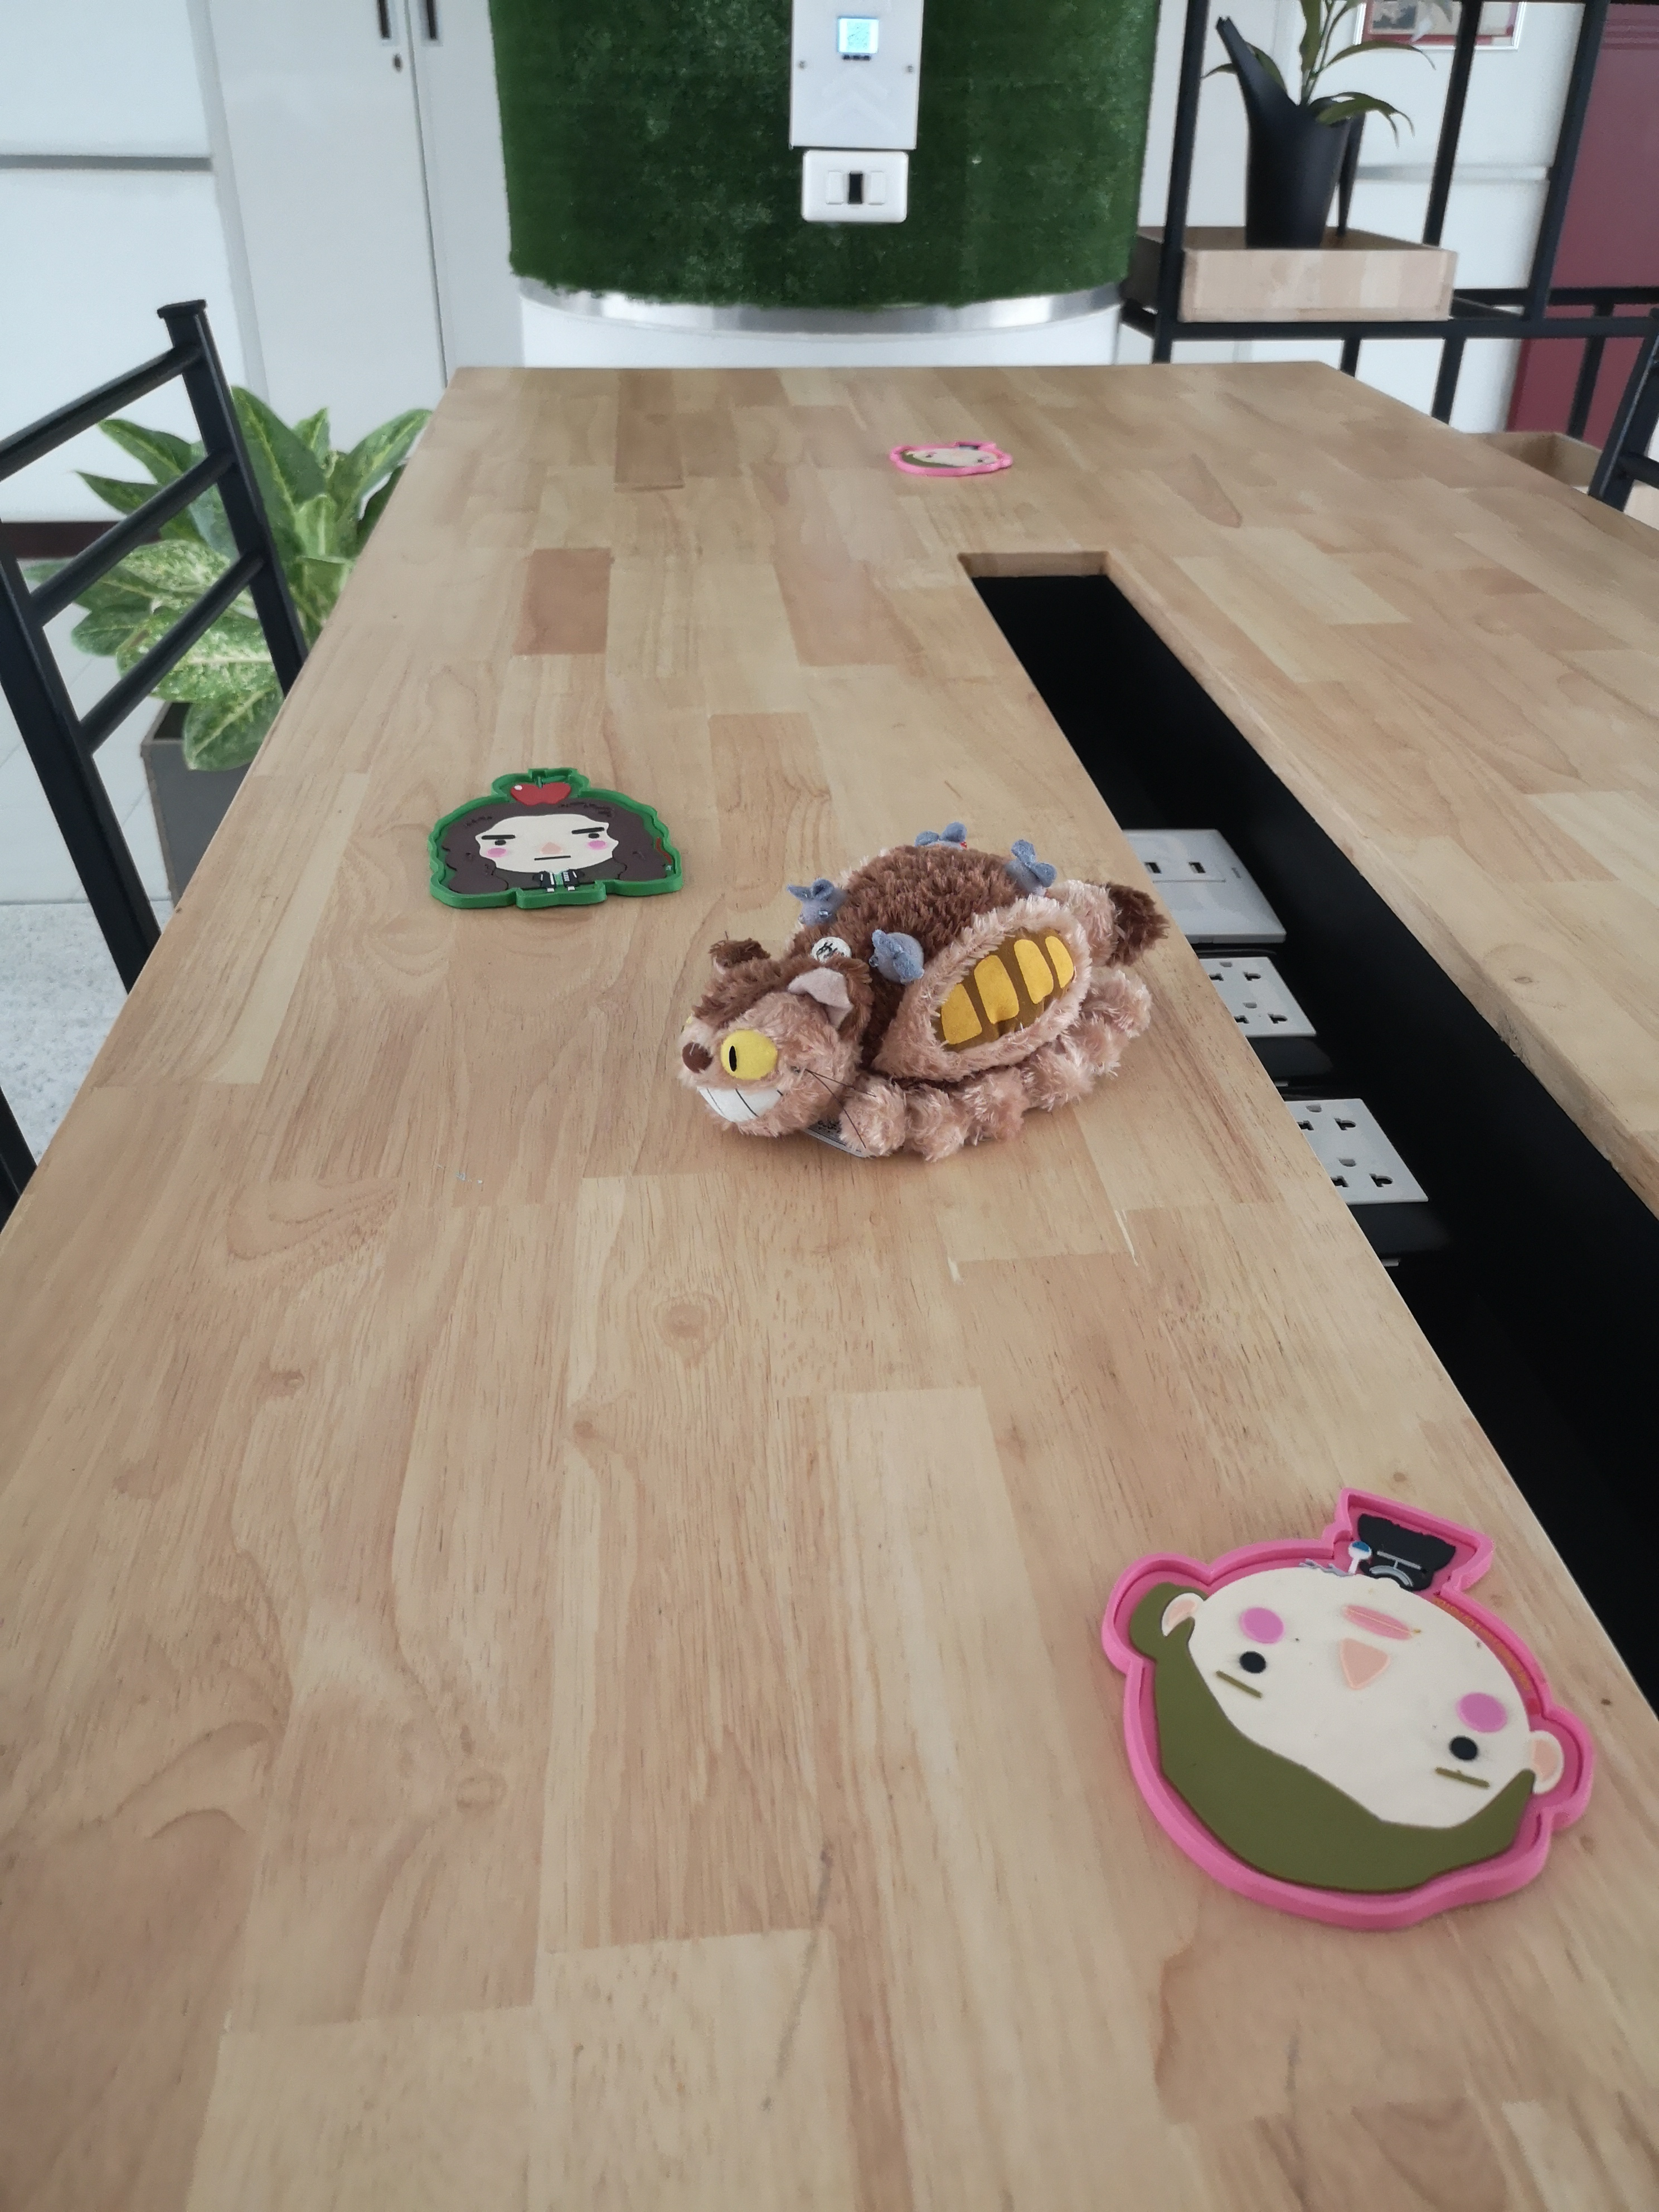nekobus: (673, 815, 1171, 1167)
